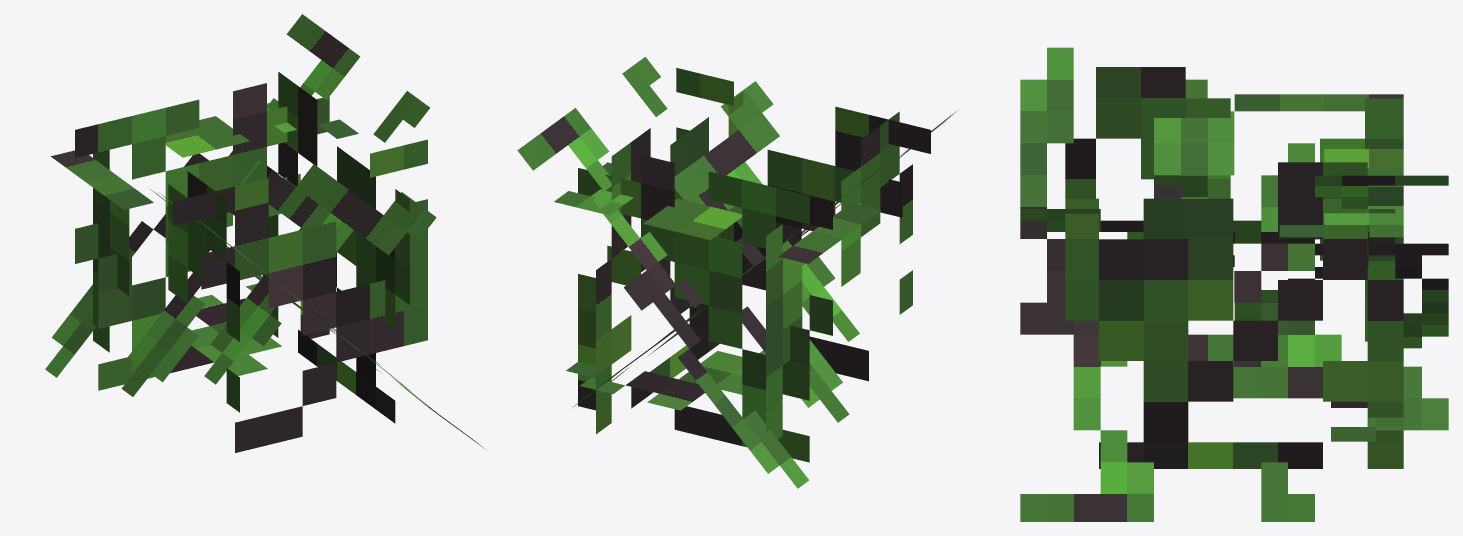
Rendered from leaf_model_cube_with_planes.obj.
3 renders of one model, left to right at view 1: azimuth 30°, elevation 25°; view 2: azimuth 150°, elevation 25°; view 3: azimuth 270°, elevation 25°, orthographic. The views are drawn at different scales.
Visible parts, largest first — view 1: plane.001; view 2: plane.001; view 3: plane.001.
Boxes of the visible parts, x1=… form: plane.001: x1=45, y1=14, x2=485, y2=452; plane.001: x1=517, y1=57, x2=959, y2=488; plane.001: x1=1020, y1=47, x2=1448, y2=521.
Bounding box in the file's own units: 1.7 × 1.7 × 1.9.
1 material, 1 textured.
